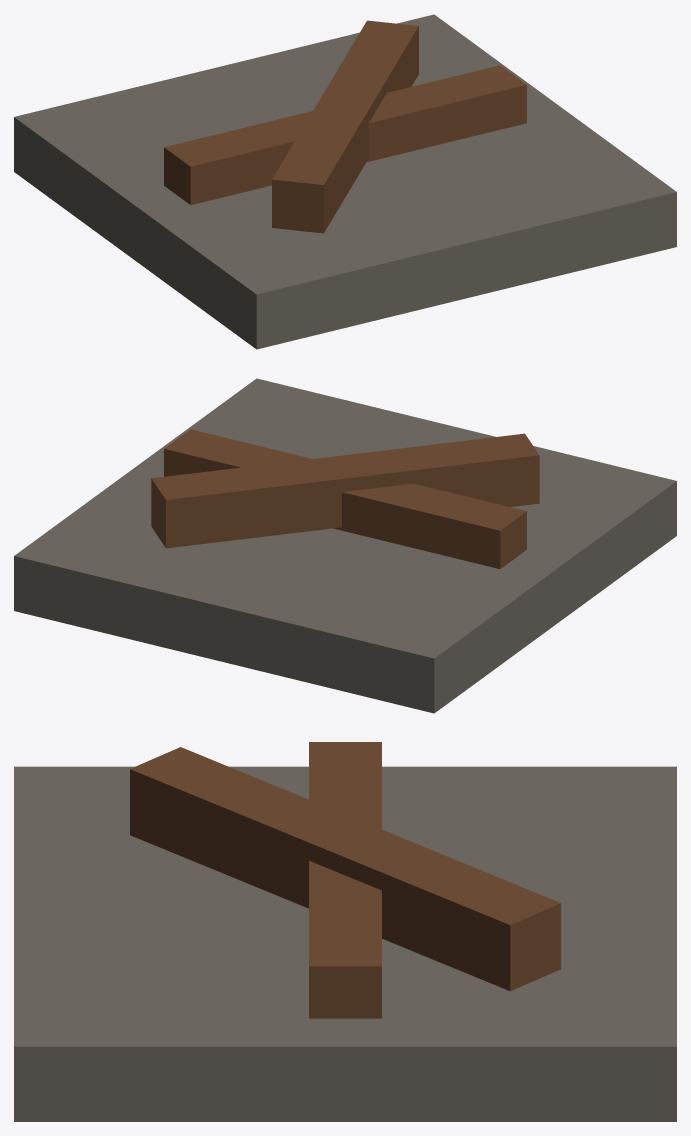
Rendered from campfire-area.source.glb.
3 views of the same model, one above another, from view 1: azimuth 30°, elevation 25°; view 2: azimuth 150°, elevation 25°; view 3: azimuth 270°, elevation 25° (orthographic). The views are drawn at different scales.
Visible parts, largest first — view 1: campfire-area-ring-mesh, campfire-area-log-a-mesh, campfire-area-log-b-mesh; view 2: campfire-area-ring-mesh, campfire-area-log-b-mesh, campfire-area-log-a-mesh; view 3: campfire-area-ring-mesh, campfire-area-log-b-mesh, campfire-area-log-a-mesh.
Boxes of the visible parts, x1,y1,x2,y2 form: campfire-area-ring-mesh: (14,14,676,349); campfire-area-log-a-mesh: (164,65,526,204); campfire-area-log-b-mesh: (272,20,418,233); campfire-area-ring-mesh: (14,378,676,713); campfire-area-log-b-mesh: (151,433,539,548); campfire-area-log-a-mesh: (164,429,526,568); campfire-area-ring-mesh: (14,766,676,1121); campfire-area-log-b-mesh: (130,747,560,991); campfire-area-log-a-mesh: (309,742,381,1018).
Size of the model in its own units: 2 by 0.485 by 2.
